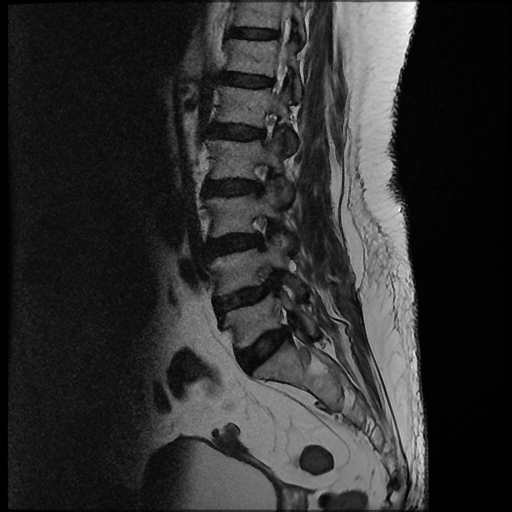RFS0: (250, 103, 286, 158)
RFS1: (241, 206, 286, 257), (239, 157, 281, 205)
